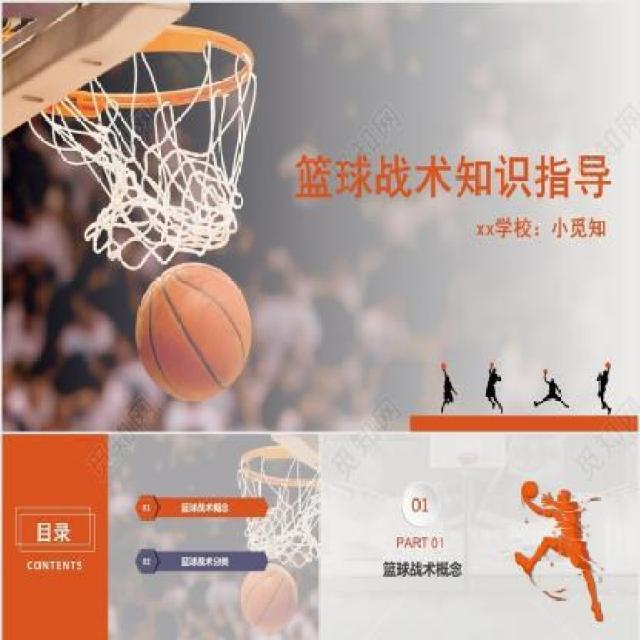basketball: (136, 261, 252, 401)
rim: (31, 20, 257, 258)
